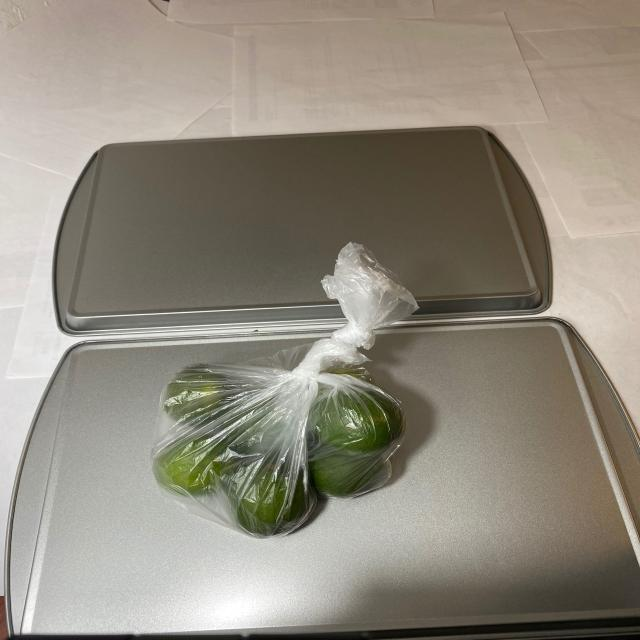lemon: (153, 357, 413, 536)
